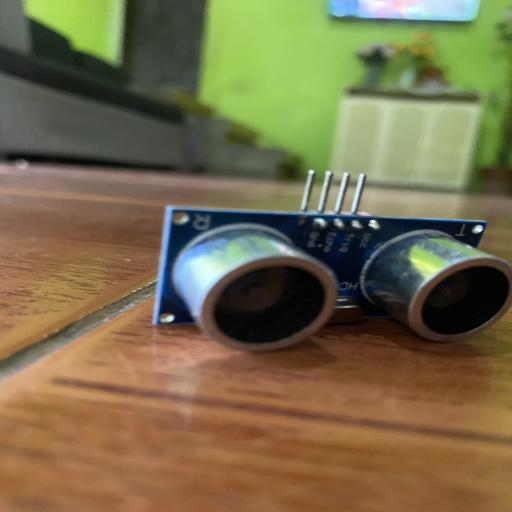Ultrasonic Sensor: (149, 170, 512, 354)
